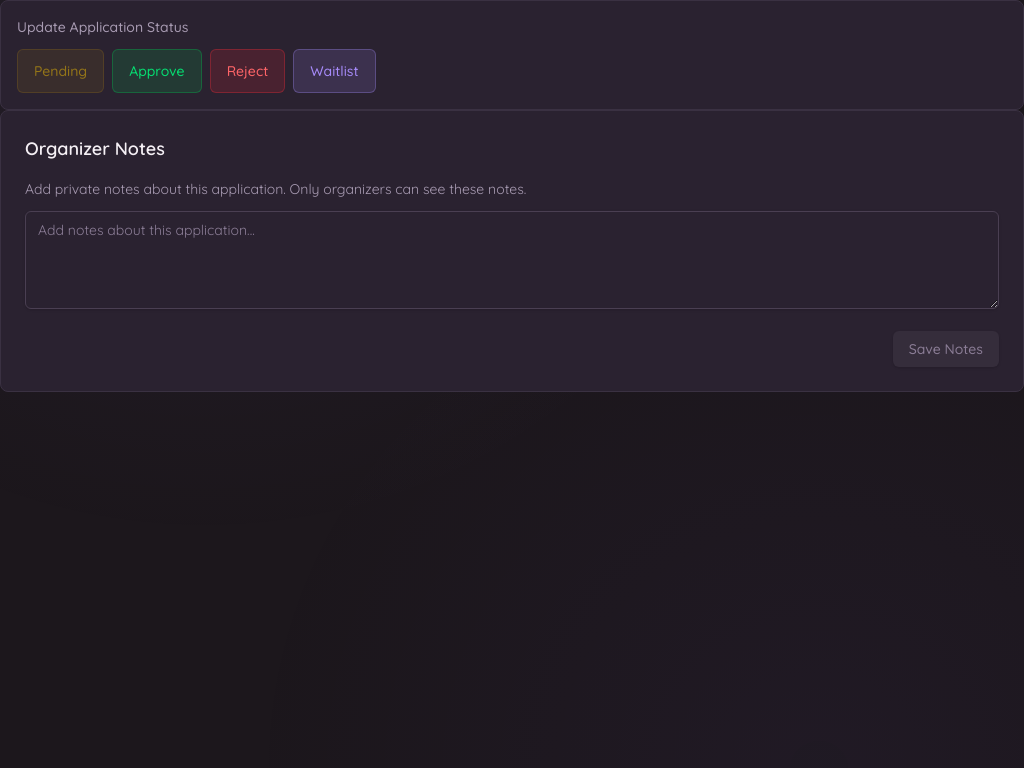
Test: StatusUpdateButtons — unsaved notes › saves the notes first, then updates the status, on "Save notes and confirm"
Type "Great booth photos" into the text box with placeholder "Add notes about this application..." at (512, 260), box left=25, top=211, right=999, bottom=309
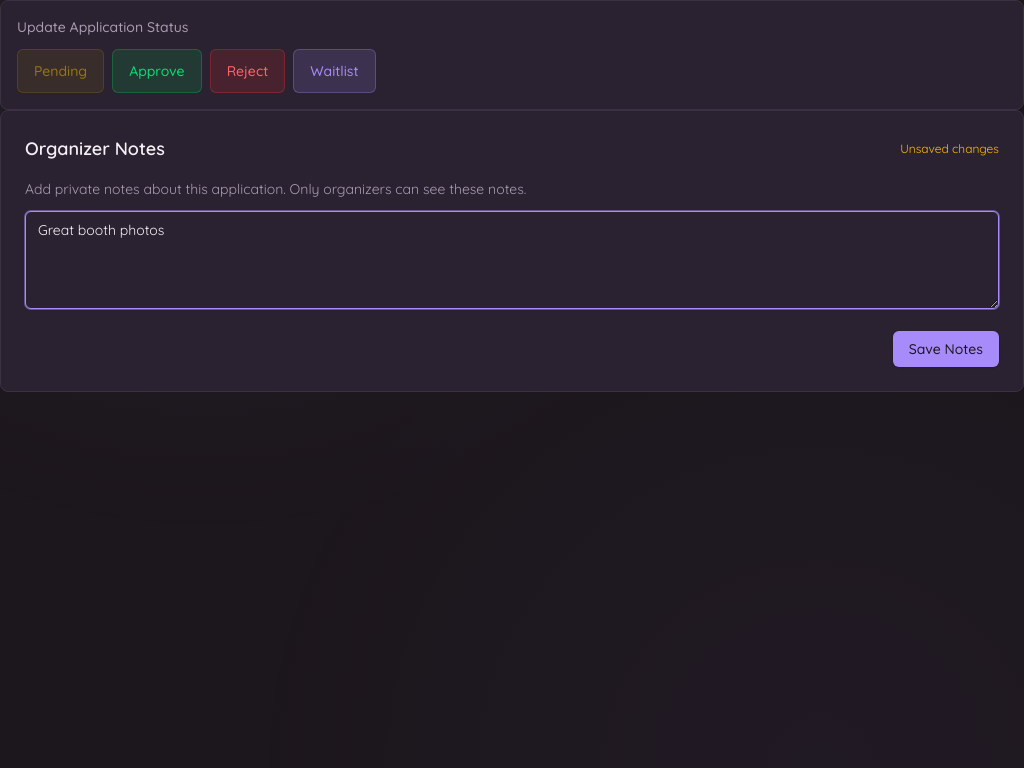
Click the button "Approve" at (157, 71), box left=112, top=49, right=202, bottom=93
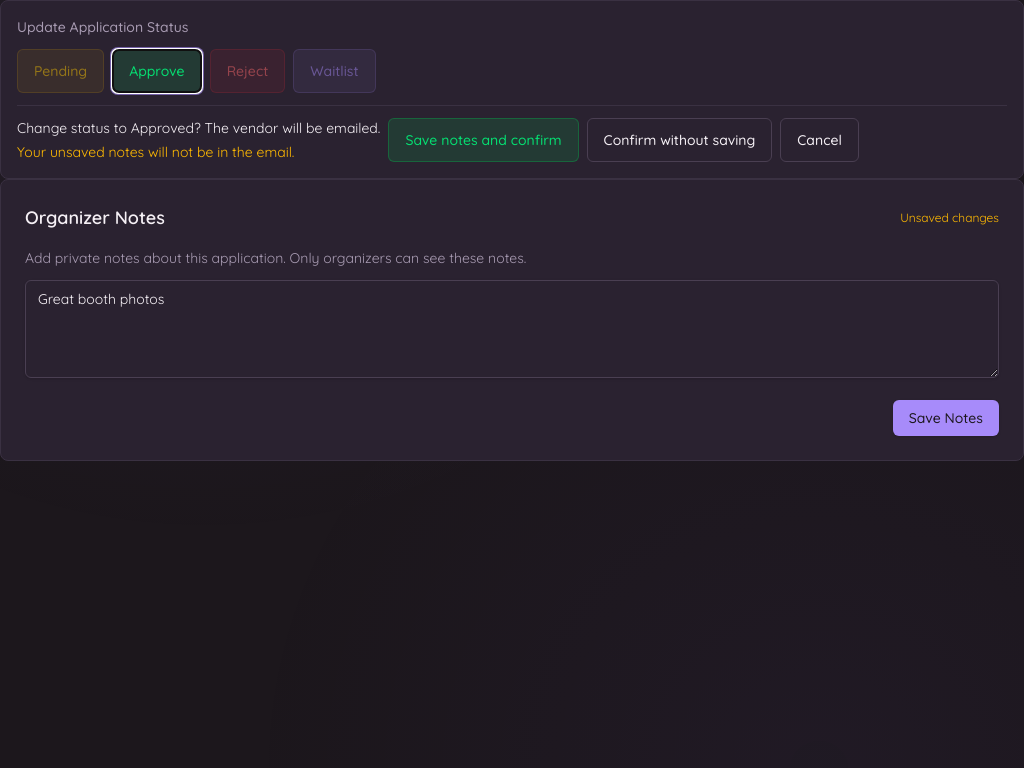
Click the button "Save notes and confirm" at (484, 140), box left=388, top=118, right=579, bottom=162
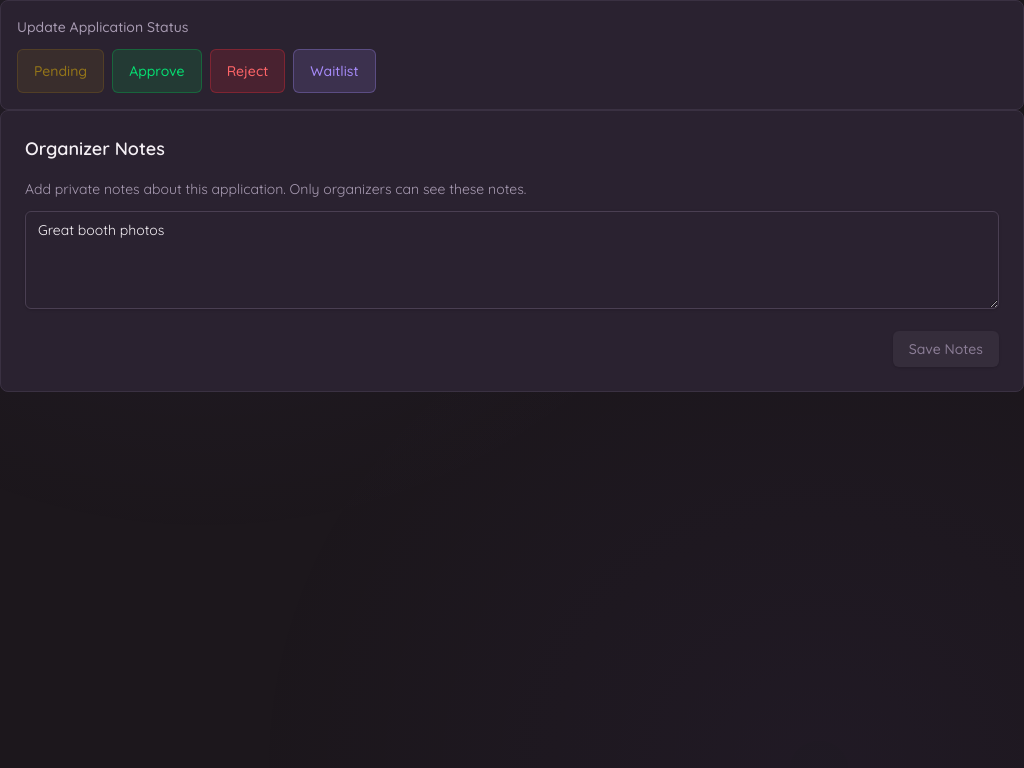
Check: the text "Unsaved changes" is gone
